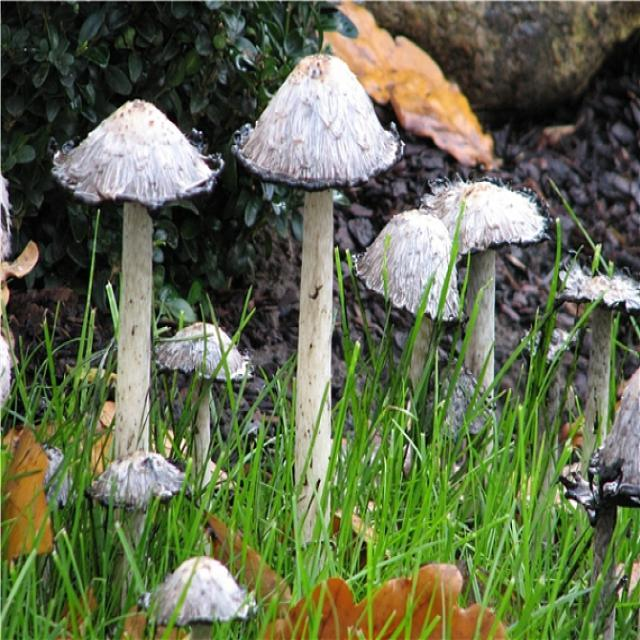Coprinus comatus: (236, 52, 397, 549), (50, 101, 216, 460), (422, 182, 547, 463), (157, 324, 250, 467), (556, 268, 634, 438), (356, 211, 466, 328), (140, 553, 256, 623), (90, 451, 200, 510)
